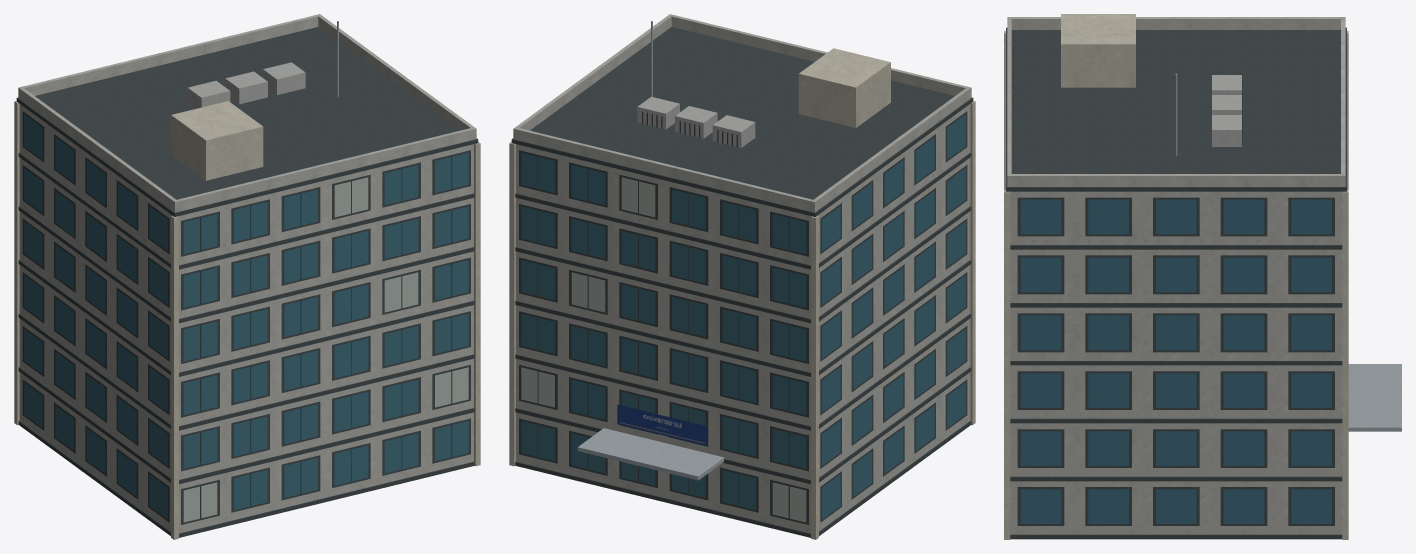
Rendered from office_midrise.glb.
The picture shows the model from 3 angles, left to right: view 1: azimuth 30°, elevation 25°; view 2: azimuth 150°, elevation 25°; view 3: azimuth 270°, elevation 25°; orthographic projection. The views are drawn at different scales.
Parts seen in each view (by area): view 1: office_midrise; view 2: office_midrise; view 3: office_midrise.
Boxes of the visible parts, x1=… form: office_midrise: x1=14, y1=14, x2=480, y2=539; office_midrise: x1=509, y1=14, x2=975, y2=539; office_midrise: x1=1004, y1=14, x2=1401, y2=539.
Size of the model in its own units: 20.33 by 25.4 by 21.16.
